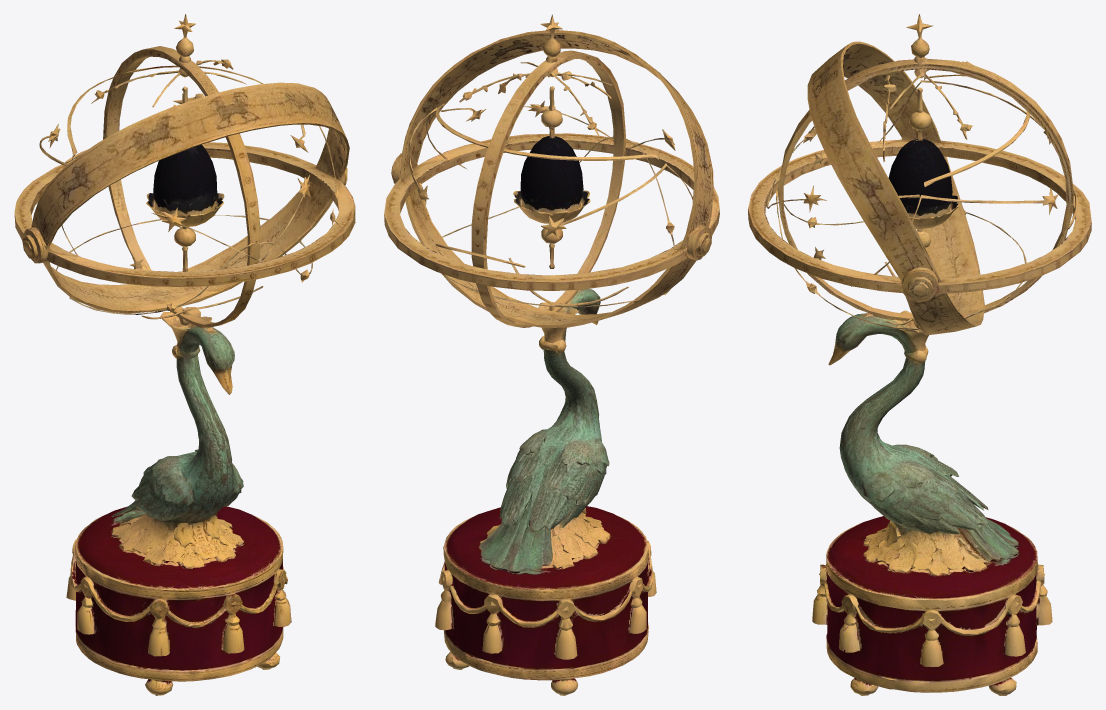
The model's file is P9_star_orrery_game.glb.
3 views of the same model, side by side, from view 1: azimuth 30°, elevation 25°; view 2: azimuth 150°, elevation 25°; view 3: azimuth 270°, elevation 25° (orthographic). The views are drawn at different scales.
Parts seen in each view (by area): view 1: P9_star_orrery; view 2: P9_star_orrery; view 3: P9_star_orrery.
Boxes of the visible parts, box(x1,y1,x2,y2) form: P9_star_orrery: box(14, 14, 355, 695); P9_star_orrery: box(384, 14, 719, 695); P9_star_orrery: box(748, 14, 1091, 695).
Bounding box in the file's own units: 0.7722 × 1.5 × 0.7139.
1 material, 1 textured.
